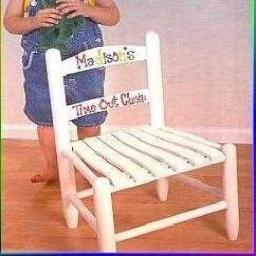Chair: (44, 32, 238, 252)
